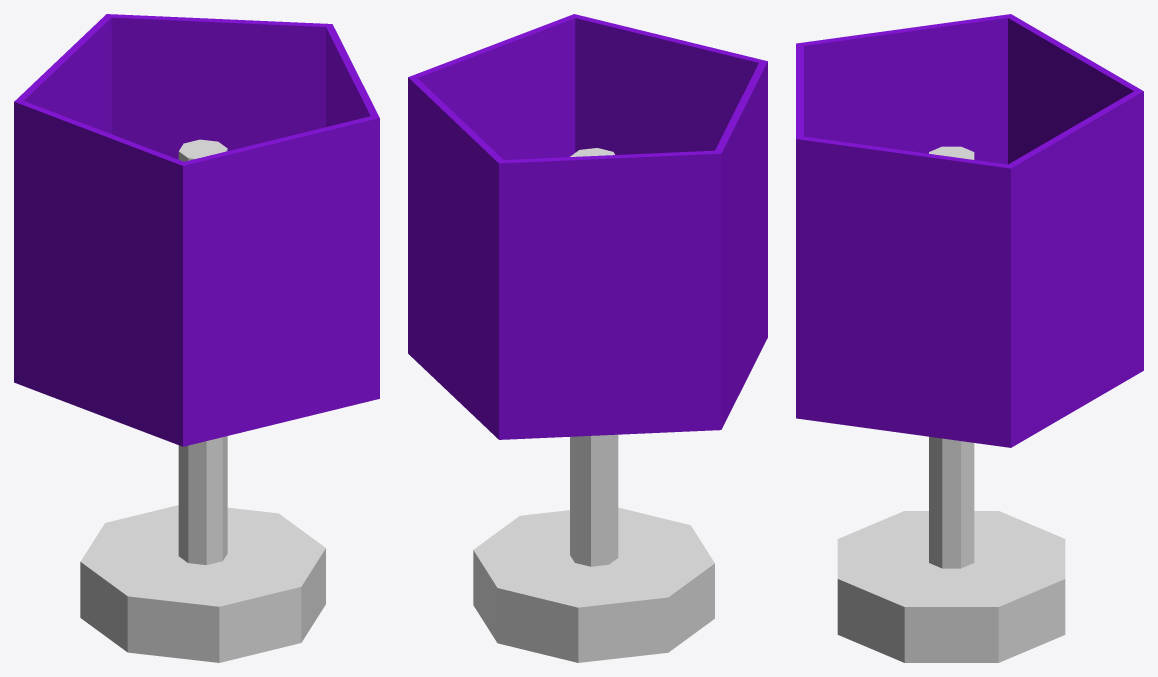
Rendered from Lamp.fbx.
3 views of the same model, side by side, from view 1: azimuth 30°, elevation 25°; view 2: azimuth 150°, elevation 25°; view 3: azimuth 270°, elevation 25° (orthographic).
Parts seen in each view (by area): view 1: Lamp; view 2: Lamp; view 3: Lamp.
Part boxes in pixels (box(x1,y1,x2,y2)): Lamp: box(14, 14, 379, 662); Lamp: box(408, 14, 767, 662); Lamp: box(796, 14, 1143, 662).
Size of the model in its own units: 148 by 233 by 140.
